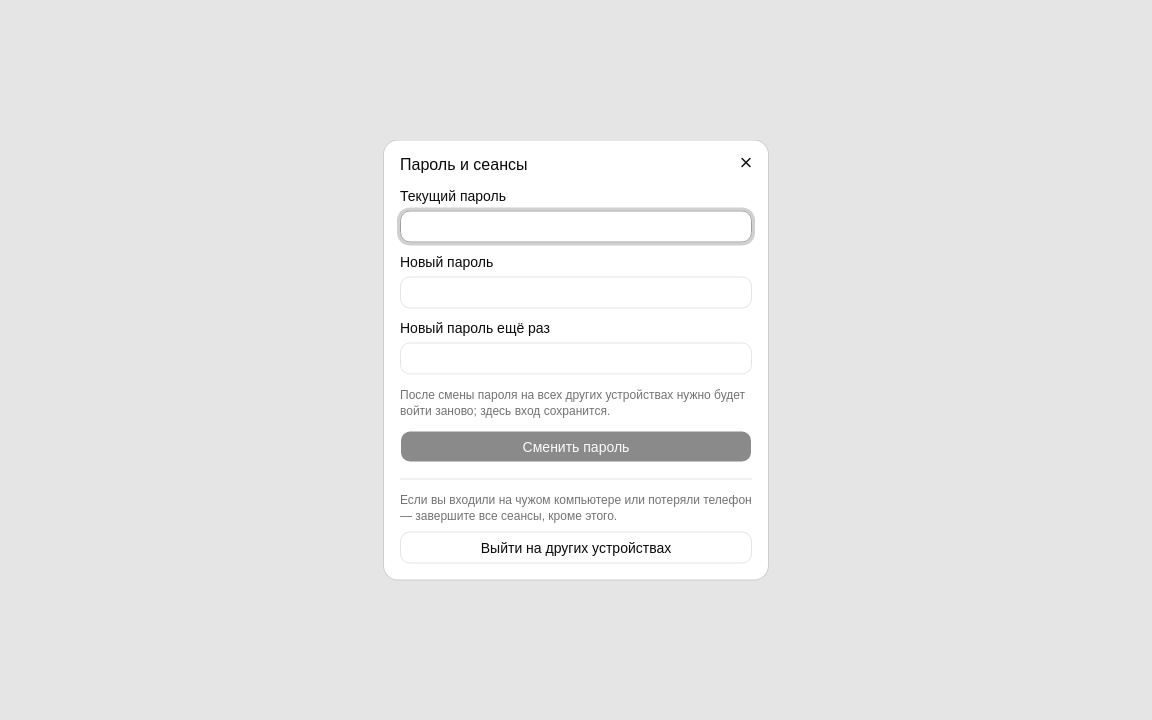
PasswordDialog › sends the current and the new password and says the other sessions ended
Type "secret123" into the password field labelled "Текущий пароль" at x=576, y=226, box [400,210,752,242]
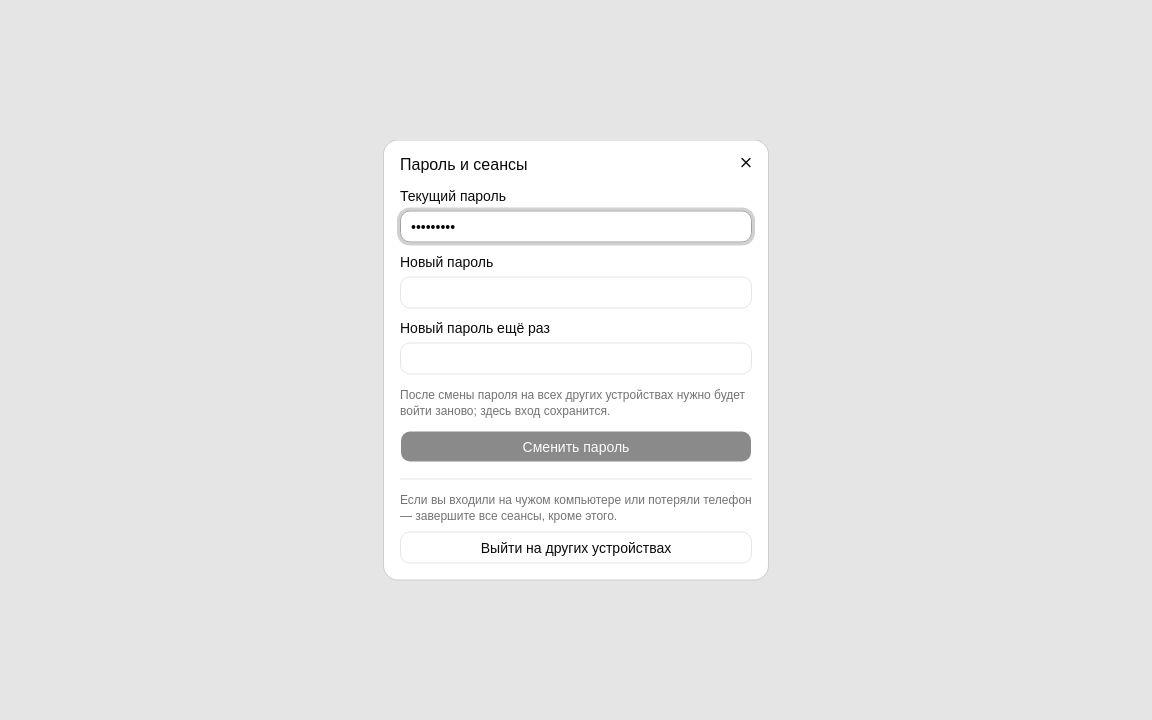
Type "новый-пароль" into the password field labelled "Новый пароль" at x=576, y=292, box [400,276,752,308]
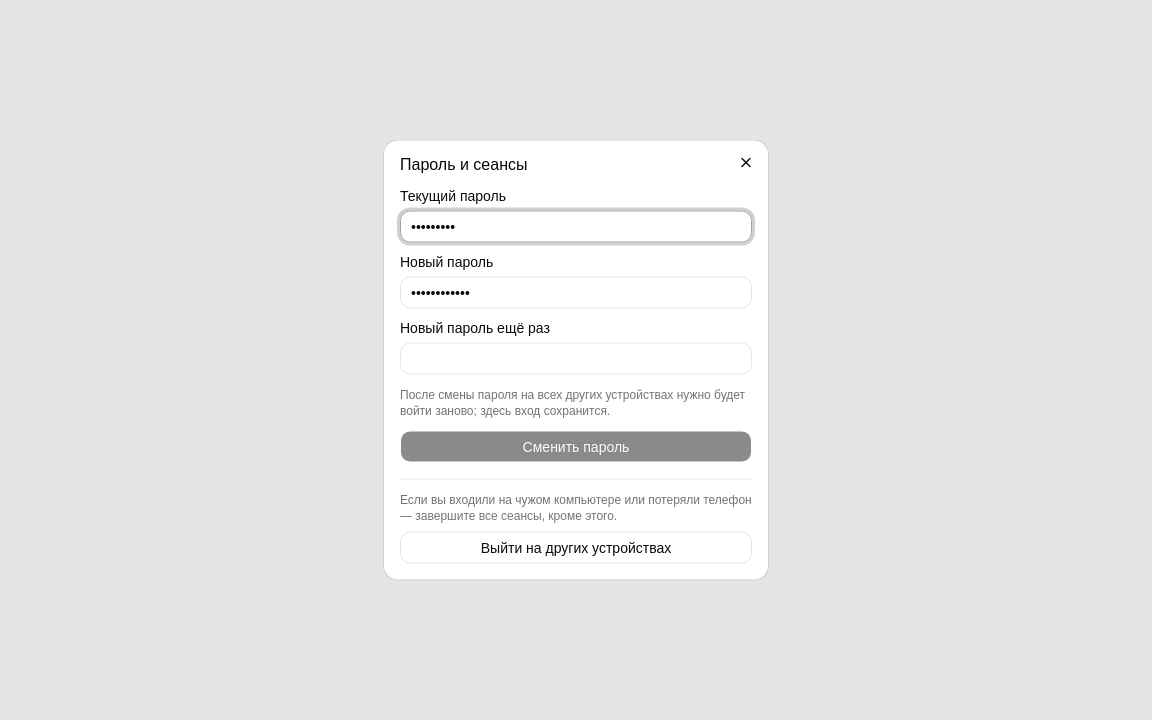
Type "новый-пароль" into the password field labelled "Новый пароль ещё раз" at x=576, y=358, box [400,342,752,374]
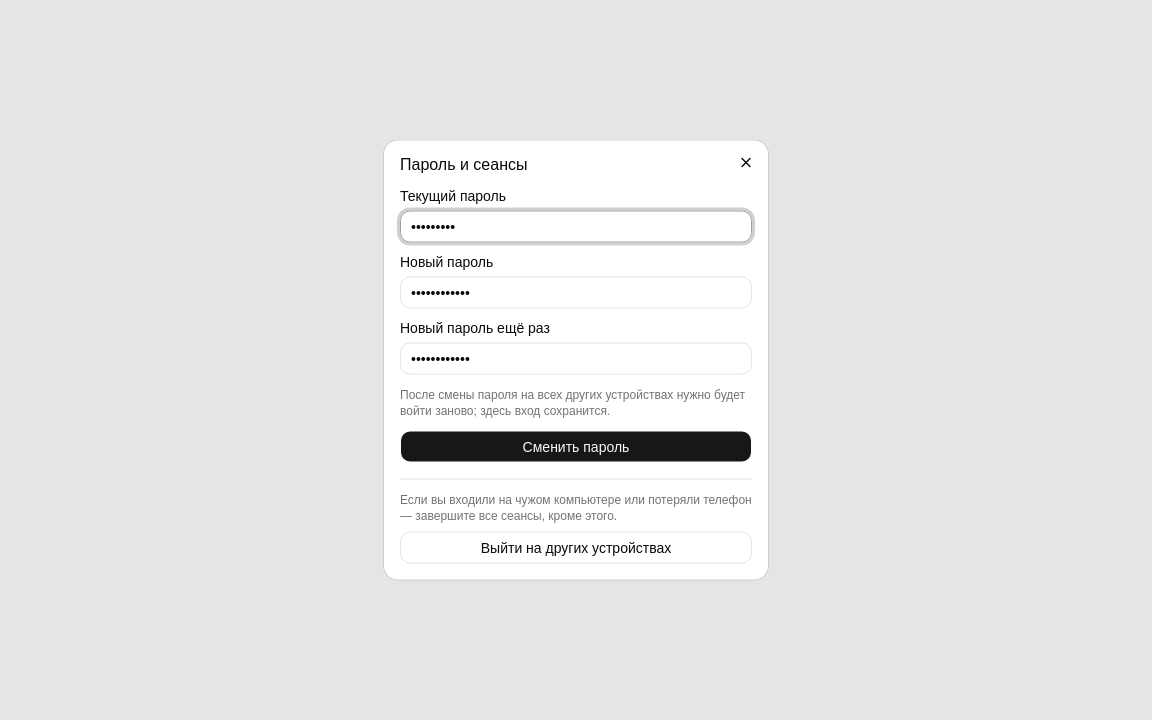
Click the button "Сменить пароль" at x=576, y=446, box [400,430,752,462]
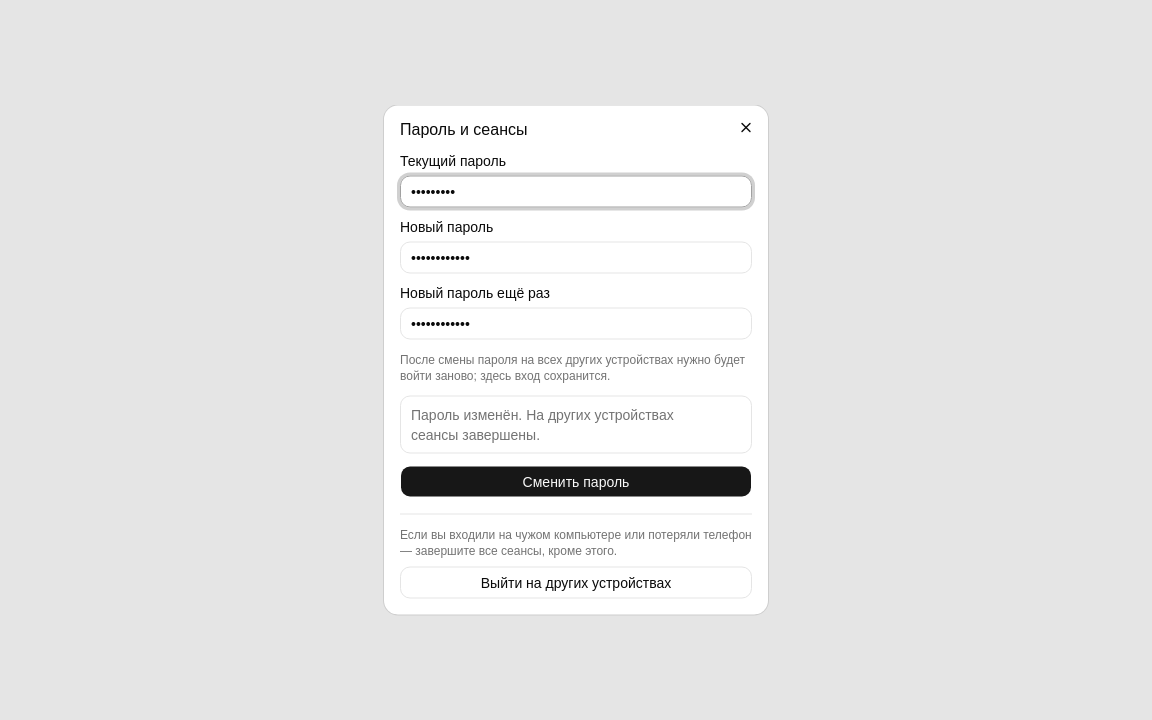
Expected: the text "Пароль изменён. На других устройствах сеансы завершены." is shown, [411,406,674,442]
